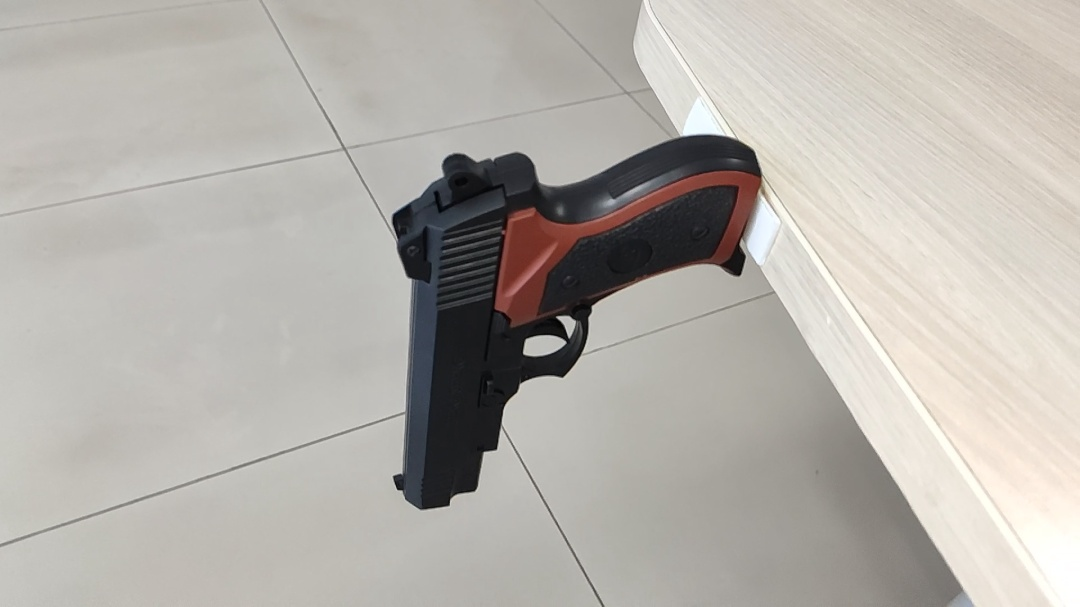gun: (385, 131, 765, 514)
